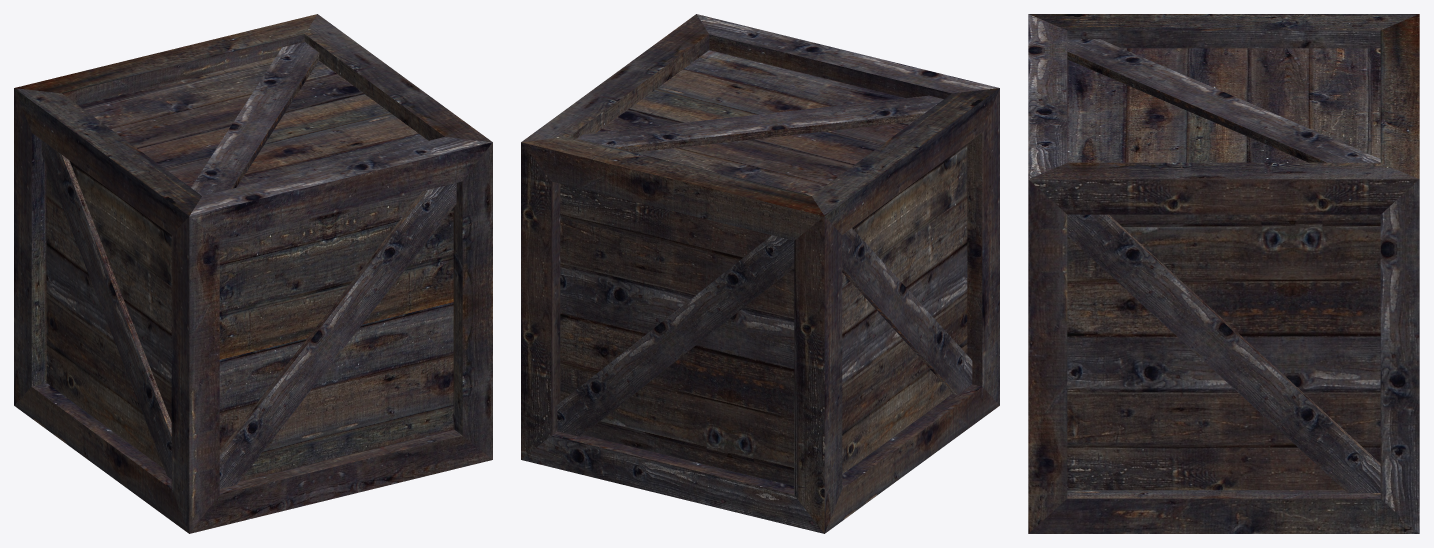
3 renders of one model, left to right at view 1: azimuth 30°, elevation 25°; view 2: azimuth 150°, elevation 25°; view 3: azimuth 270°, elevation 25°, orthographic. The views are drawn at different scales.
Visible parts, largest first — view 1: Crate; view 2: Crate; view 3: Crate.
Part boxes in pixels (box(x1,y1,x2,y2)): Crate: box(14, 14, 492, 533); Crate: box(521, 14, 999, 533); Crate: box(1028, 14, 1419, 533).
Bounding box in the file's own units: 1 × 1 × 1.
Materials: 1 (1 with a texture image).
